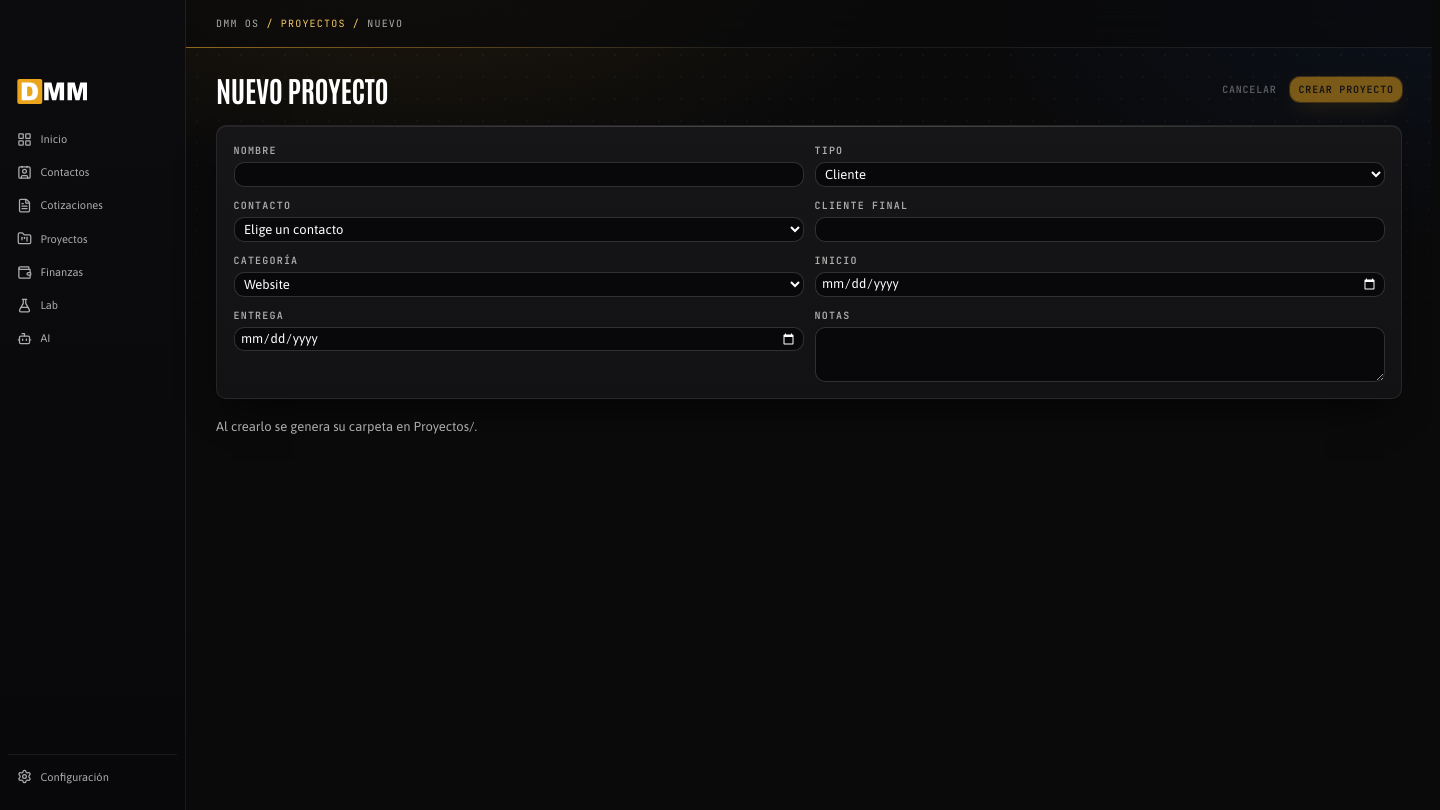
Test: app shell › goes back to the section from the header path
The image size is (1440, 810).
Click the link "Proyectos" next to "DMM OS". click: (313, 24)
box: [281,17,346,30]
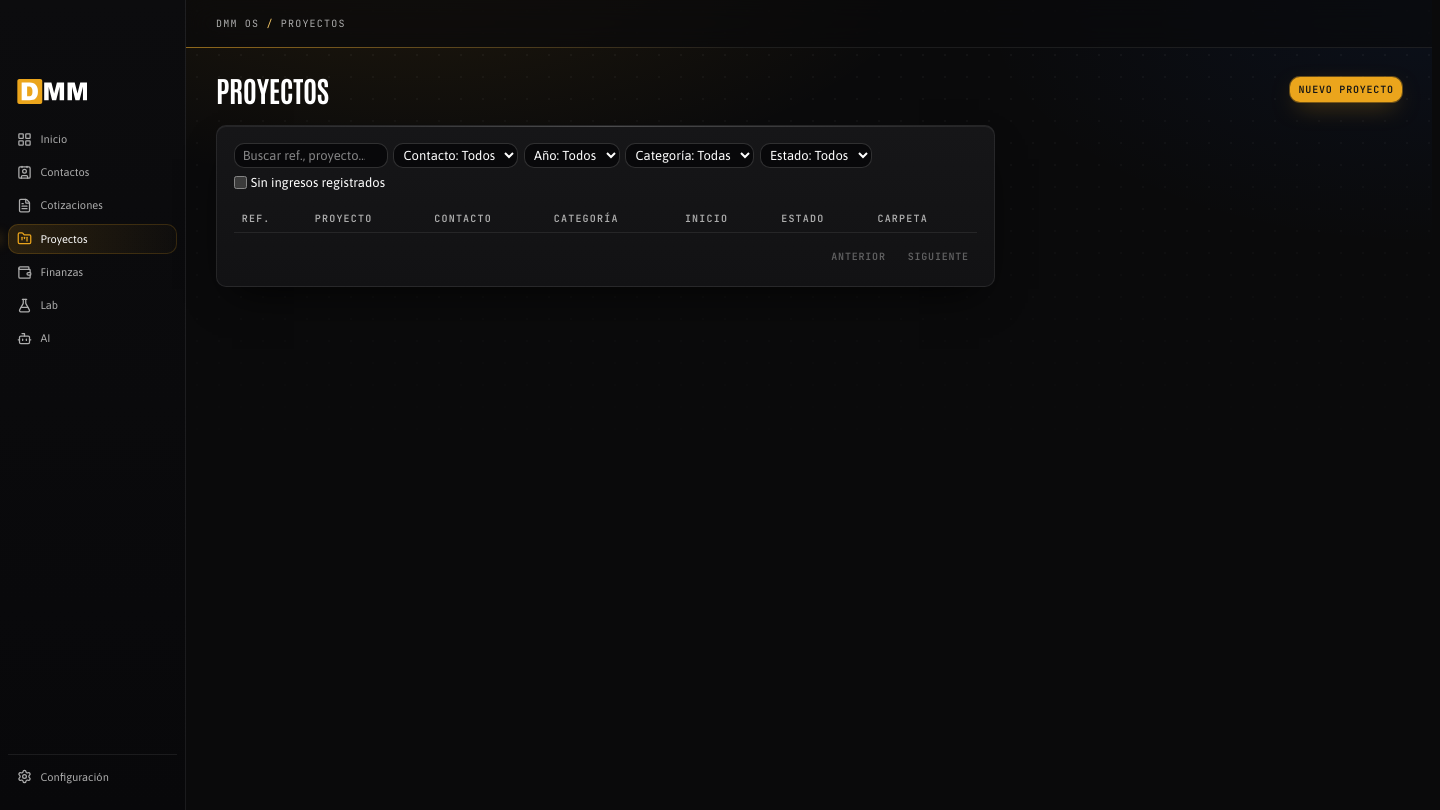
expect the heading "Proyectos" is shown: met, box [216,72,329,107]
expect the navigation bar named "Ruta" reads "DMM OS / Proyectos": met, box [216,16,346,31]
